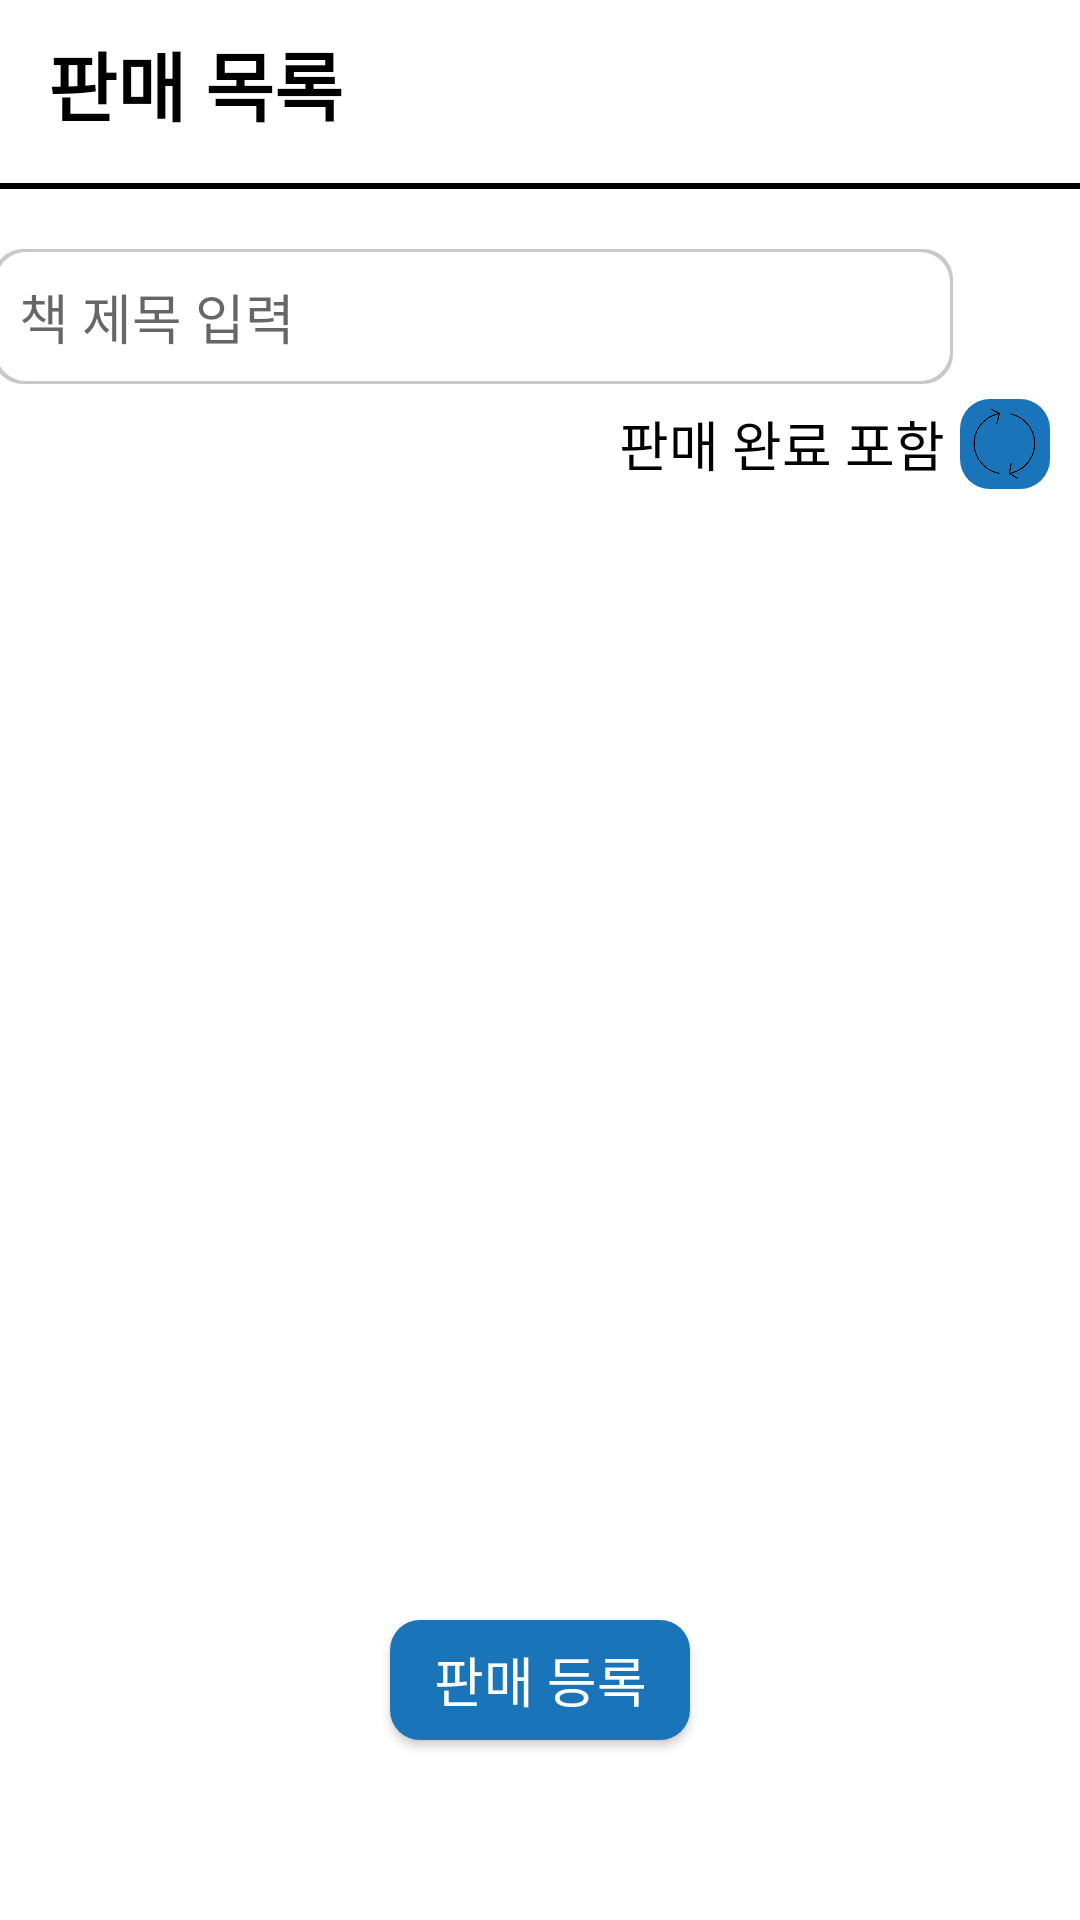

Named icons in this screenshot (1080*1920) and their centers, point (x, y):
change list: point (1005, 444)
